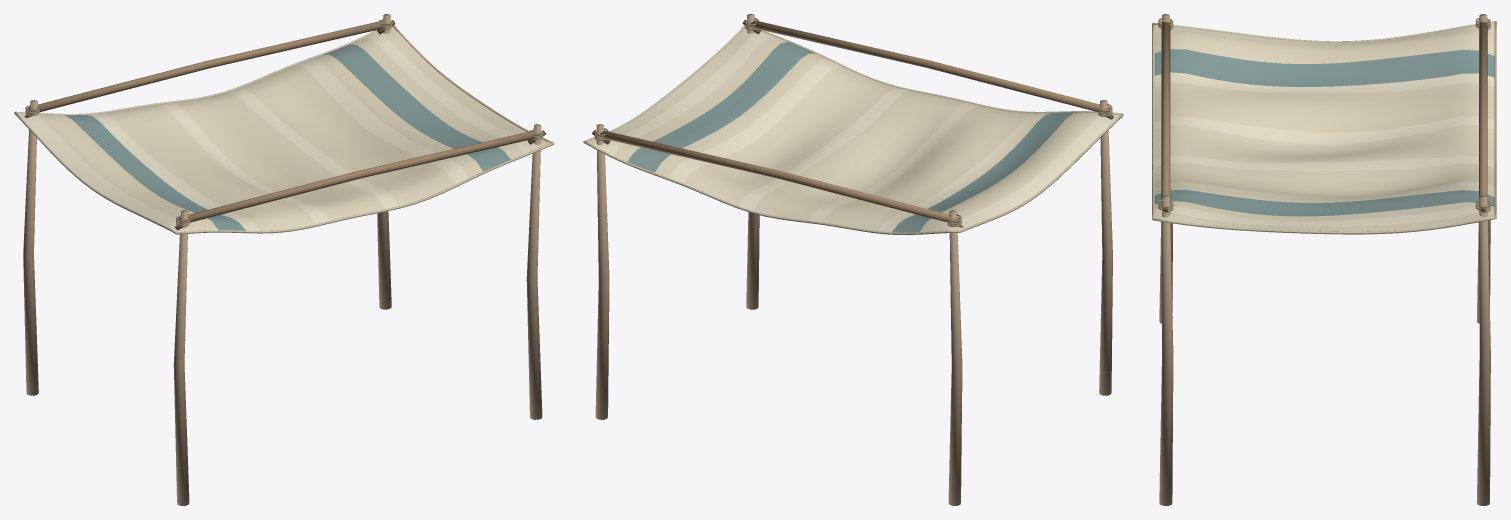
Rendered from SM_Canopy.fbx.
3 renders of one model, left to right at view 1: azimuth 30°, elevation 25°; view 2: azimuth 150°, elevation 25°; view 3: azimuth 270°, elevation 25°, orthographic. The views are drawn at different scales.
Parts seen in each view (by area): view 1: SM_Canopy; view 2: SM_Canopy; view 3: SM_Canopy.
Boxes of the visible parts, x1,y1,x2,y2 form: SM_Canopy: (14, 14, 554, 505); SM_Canopy: (583, 14, 1123, 505); SM_Canopy: (1152, 14, 1496, 505).
Size of the model in its own units: 296 by 222 by 218.
